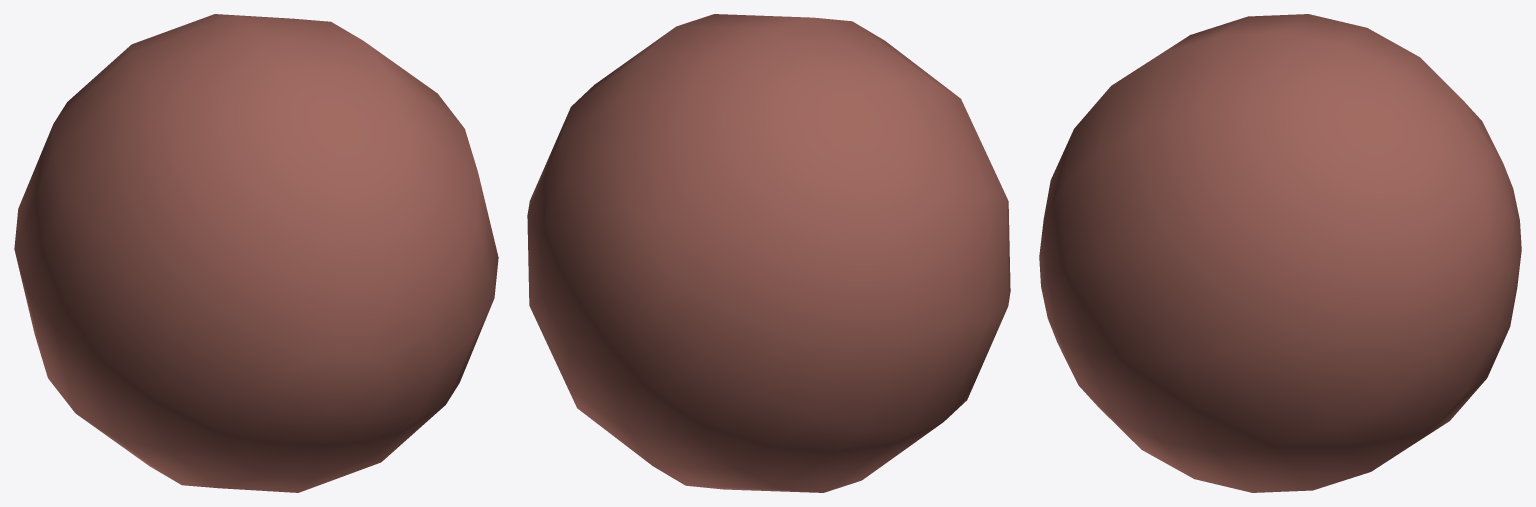
The model's file is mixamo_humanoid_joint_rightHandMiddle3.fbx.
3 views of the same model, side by side, from view 1: azimuth 30°, elevation 25°; view 2: azimuth 150°, elevation 25°; view 3: azimuth 270°, elevation 25° (orthographic). The views are drawn at different scales.
Visible parts, largest first — view 1: joint_RightHandMiddle3; view 2: joint_RightHandMiddle3; view 3: joint_RightHandMiddle3.
Part boxes in pixels (box(x1,y1,x2,y2)): joint_RightHandMiddle3: box(14, 14, 498, 492); joint_RightHandMiddle3: box(527, 14, 1010, 492); joint_RightHandMiddle3: box(1039, 14, 1521, 492).
Size of the model in its own units: 1.66 by 1.67 by 1.67.
